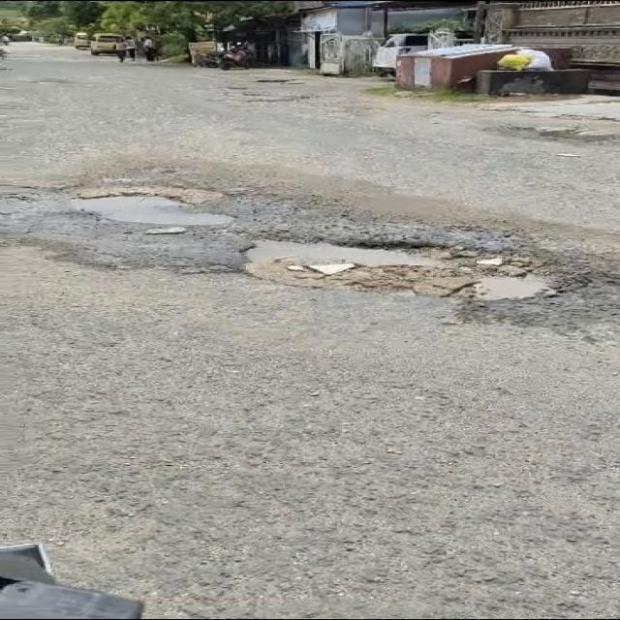lubang: (244, 230, 557, 302), (71, 186, 232, 228)
